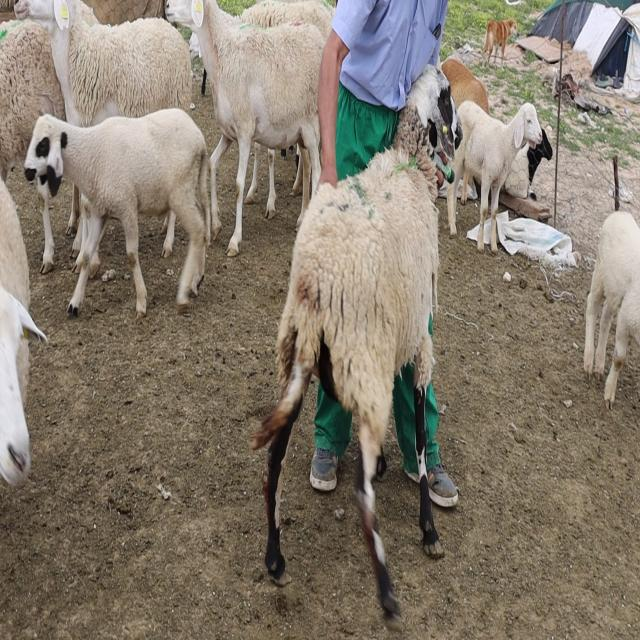Score_2: (251, 66, 459, 626)
